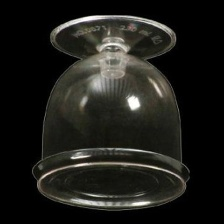glass: (28, 10, 197, 214)
